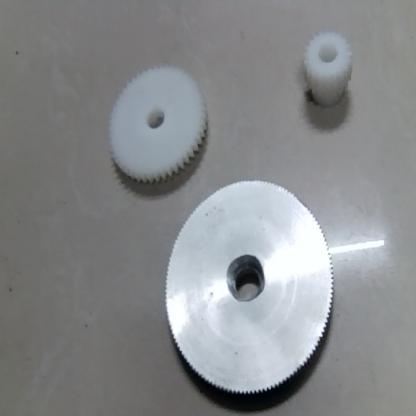FOD: (163, 180, 343, 406), (98, 60, 213, 188), (295, 29, 365, 122)
